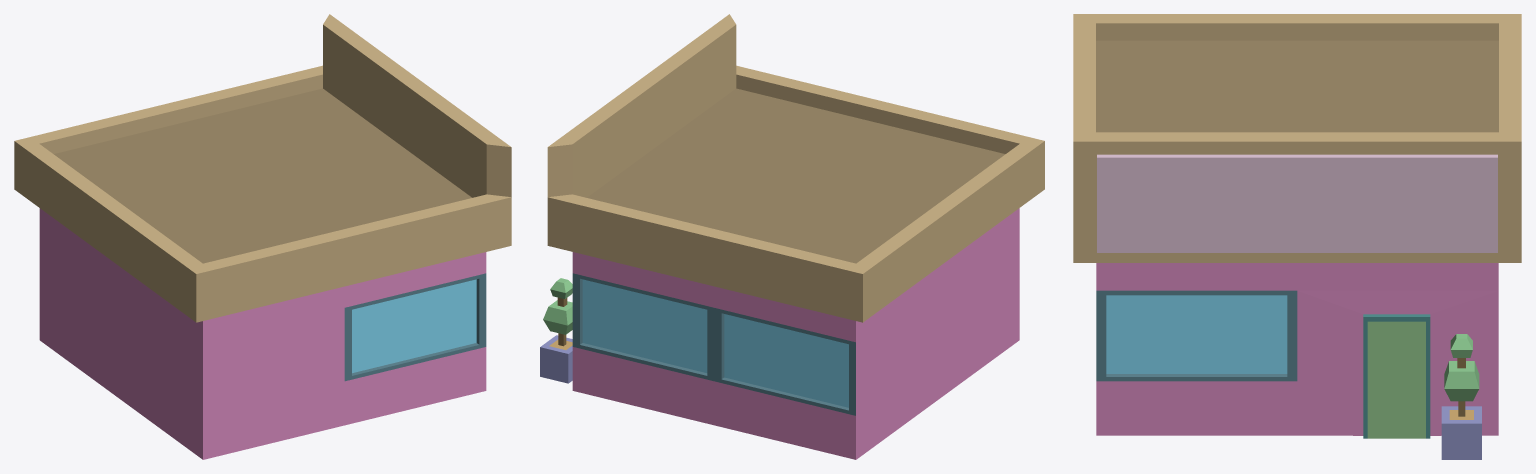
File: StoreBuilding02.fbx
3 views of the same model, side by side, from view 1: azimuth 30°, elevation 25°; view 2: azimuth 150°, elevation 25°; view 3: azimuth 270°, elevation 25° (orthographic). The views are drawn at different scales.
Visible parts, largest first — view 1: Cube; view 2: Cube; view 3: Cube.
Boxes of the visible parts, x1=… form: Cube: x1=14, y1=14, x2=511, y2=459; Cube: x1=540, y1=14, x2=1044, y2=459; Cube: x1=1073, y1=14, x2=1521, y2=459.
Size of the model in its own units: 718 by 500 by 668.
